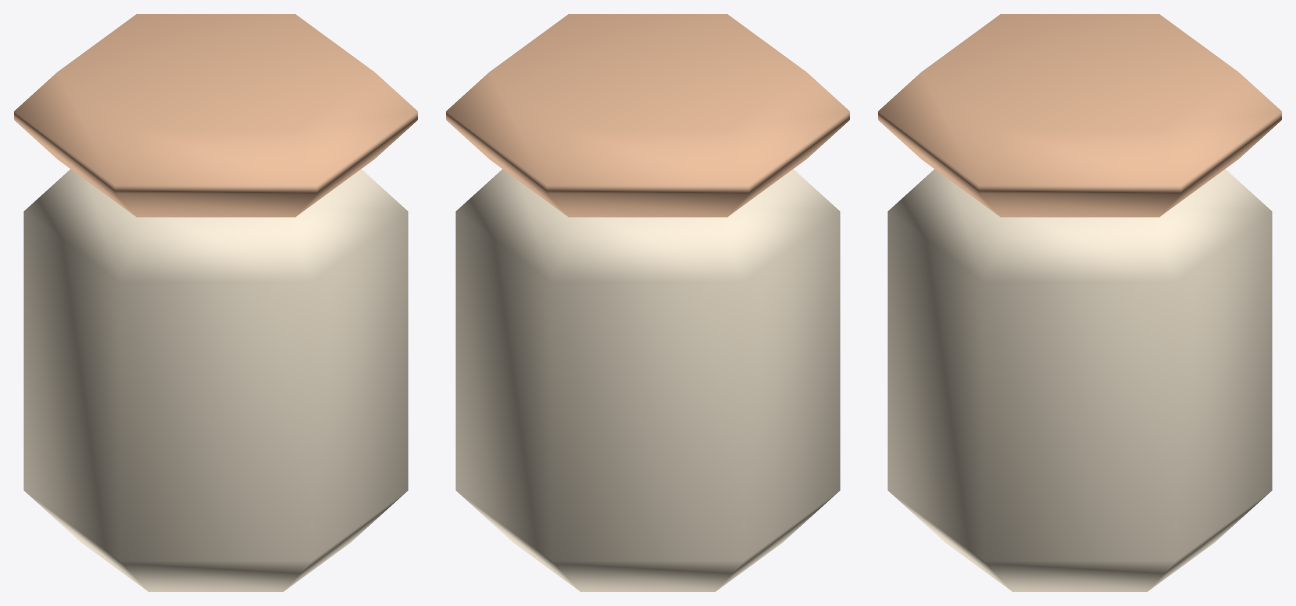
Rendered from jar.glb.
3 views of the same model, side by side, from view 1: azimuth 30°, elevation 25°; view 2: azimuth 150°, elevation 25°; view 3: azimuth 270°, elevation 25° (orthographic).
Parts seen in each view (by area): view 1: part (×2); view 2: part (×2); view 3: part (×2).
Part boxes in pixels (x1=…): part (×2): x1=14, y1=14, x2=417, y2=591; part (×2): x1=446, y1=14, x2=849, y2=591; part (×2): x1=878, y1=14, x2=1281, y2=591.
Bounding box in the file's own units: 0.3092 × 0.459 × 0.357.
1 material, 1 textured.
